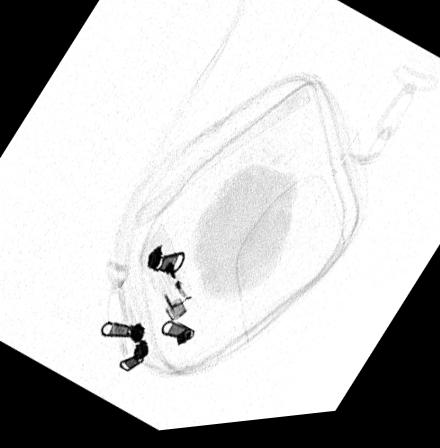Lighter: (139, 240, 192, 325)
